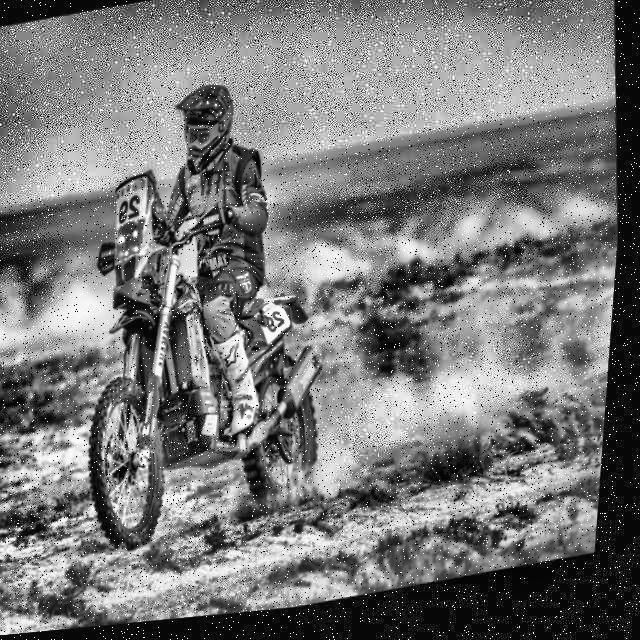Helmet: (170, 81, 244, 187)
